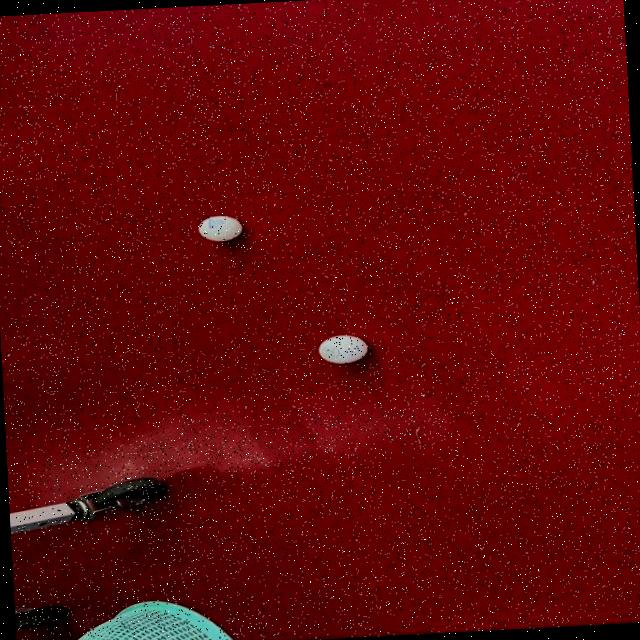ping-pong-ball: (315, 333, 371, 368), (196, 215, 245, 245)
